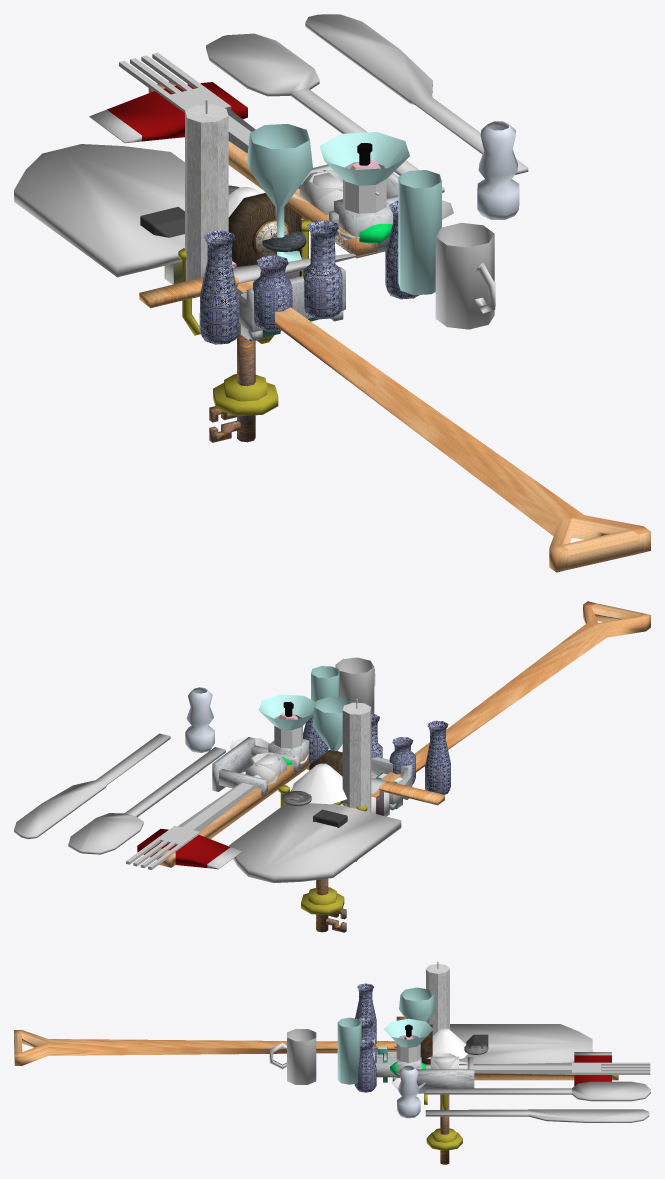
File: TODO.fbx
The picture shows the model from 3 angles, top to bottom: view 1: azimuth 30°, elevation 25°; view 2: azimuth 150°, elevation 25°; view 3: azimuth 270°, elevation 25°; orthographic projection. The views are drawn at different scales.
Visible parts, largest first — view 1: PALA, VELA, Cuchillo, Cuchara, Taza, Hacha, Vaso, Copa 1, Jarron 4, COSA DE COCINA, Tenedor, Reloj Pared (+12 smaller); view 2: PALA, Hacha, Cuchara, VELA, Cuchillo, Papel higienico, Tenedor, Taza, Jarron 4, COSA DE COCINA, Lampara.001, Copa 1 (+10 smaller); view 3: PALA, Cuchara, Cuchillo, Tenedor, Taza, Papel higienico, Vaso, Hacha, VELA, COSA DE COCINA, Copa 1, copa 2 (+9 smaller).
Boxes of the visible parts, x1,y1,x2,y2 form: PALA: (14,144,650,572); VELA: (185,99,228,281); Cuchillo: (305,14,528,174); Cuchara: (206,33,444,192); Taza: (435,222,495,329); Hacha: (89,81,377,258); Vaso: (398,170,441,295); Copa 1: (247,124,312,261); Jarron 4: (199,230,239,344); COSA DE COCINA: (477,121,519,219); Tenedor: (119,52,301,188); Reloj Pared: (228,193,301,343); PALA: (229,601,650,882); Hacha: (137,755,308,869); Cuchara: (68,747,225,854); VELA: (342,699,371,812); Cuchillo: (14,733,170,839); Papel higienico: (212,737,300,795); Tenedor: (126,783,256,869); Taza: (335,657,375,713); Jarron 4: (425,720,450,794); COSA DE COCINA: (185,687,214,752); Lampara.001: (291,763,346,804); Copa 1: (312,696,353,751); PALA: (14,1024,592,1065); Cuchara: (425,1081,650,1101); Cuchillo: (425,1109,649,1122); Tenedor: (426,1062,650,1074); Taza: (269,1029,316,1084); Papel higienico: (416,1056,474,1093); Vaso: (337,1017,361,1084); Hacha: (425,1052,618,1085); VELA: (426,961,449,1035); COSA DE COCINA: (397,1065,420,1118); Copa 1: (399,987,435,1021); copa 2: (384,1018,433,1047).
Bounding box in the file's own units: 2205 × 1736 × 5302.
49 materials, 18 textured.
